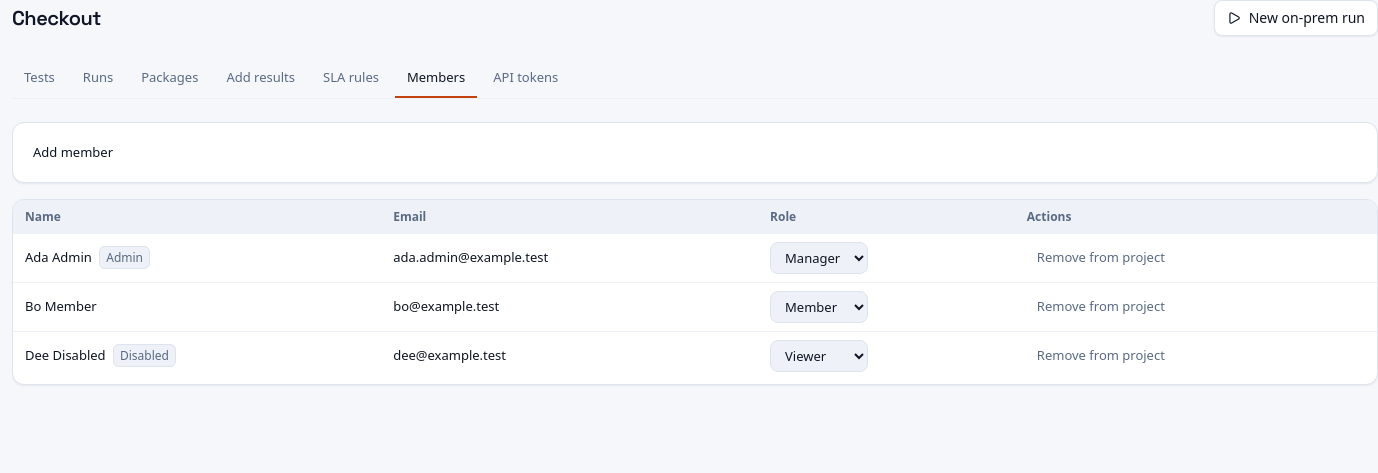
Test case: ProjectMembers — an admin › offers only people who are not members yet, and marks a disabled account there too
The image size is (1378, 473).
Click the heading "Add member".
click(73, 152)  # box [33, 142, 113, 160]
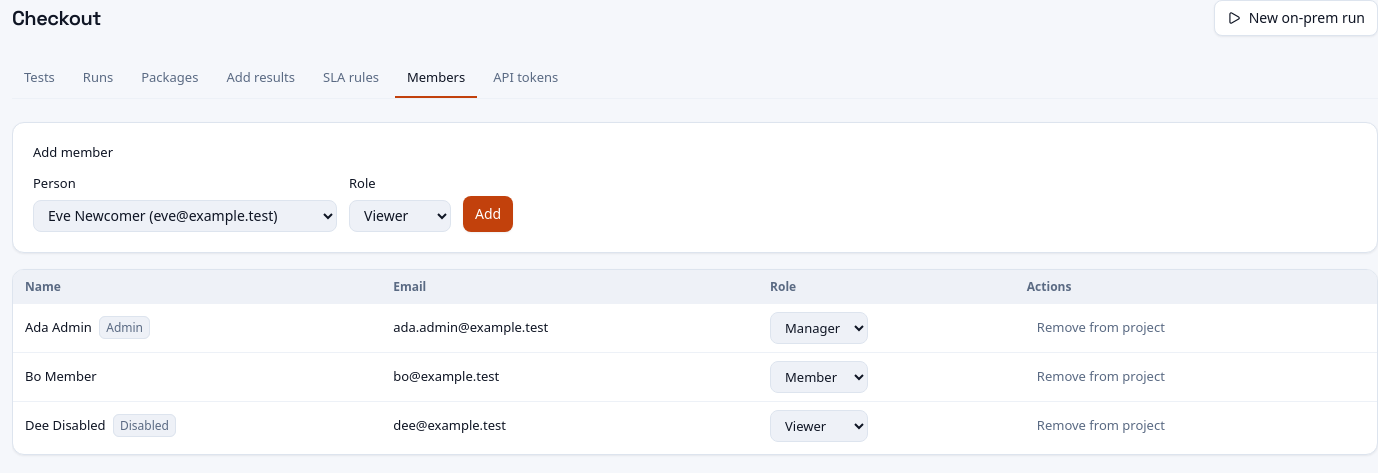
Now the dropdown labelled "Person" is enabled, box [33, 200, 337, 232]
Now the dropdown labelled "Person" shows "Eve Newcomer (eve@example.test)", box [33, 200, 337, 232]
Now the dropdown labelled "Role" shows "Viewer", box [349, 200, 451, 232]
